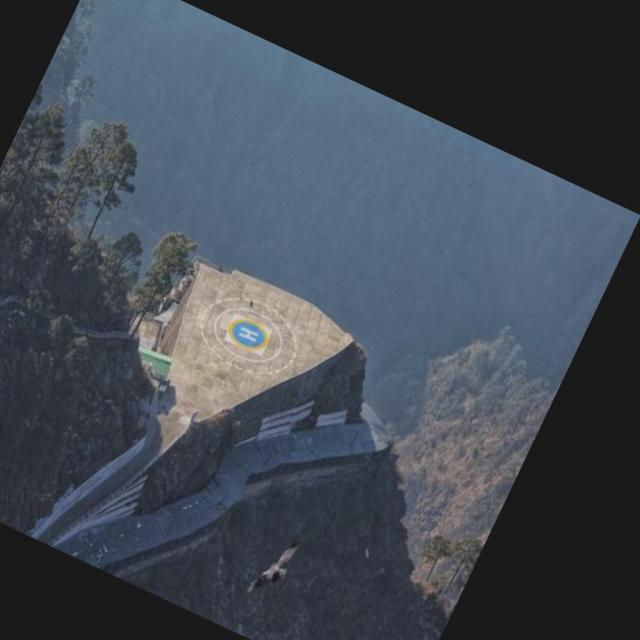helipad: (225, 315, 272, 353)
